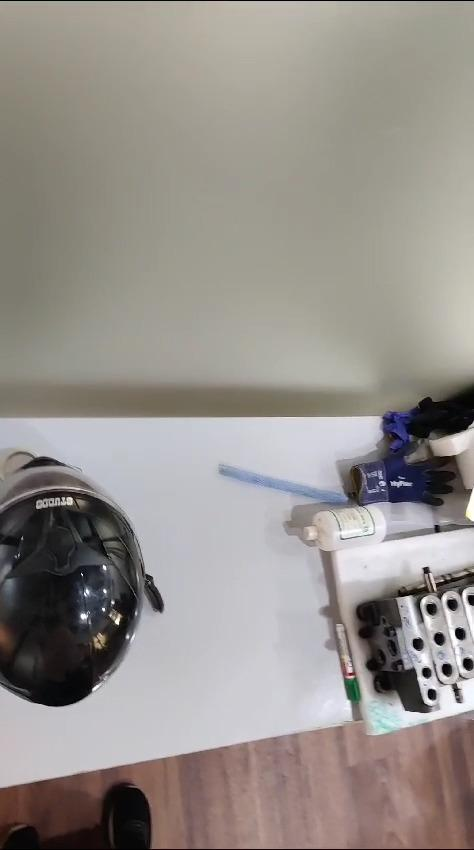Helmet: (0, 438, 177, 726)
